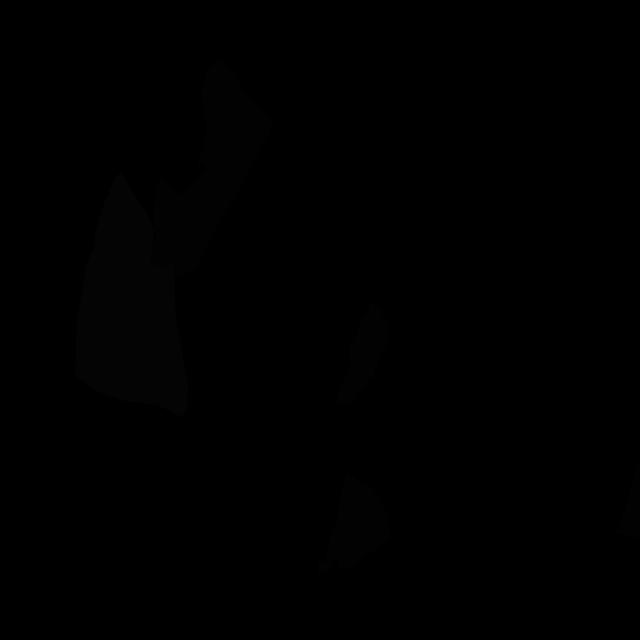cardboard: (150, 57, 274, 277), (318, 473, 391, 575), (336, 303, 390, 406), (613, 461, 640, 538)
soft_plastic: (75, 172, 188, 417)
